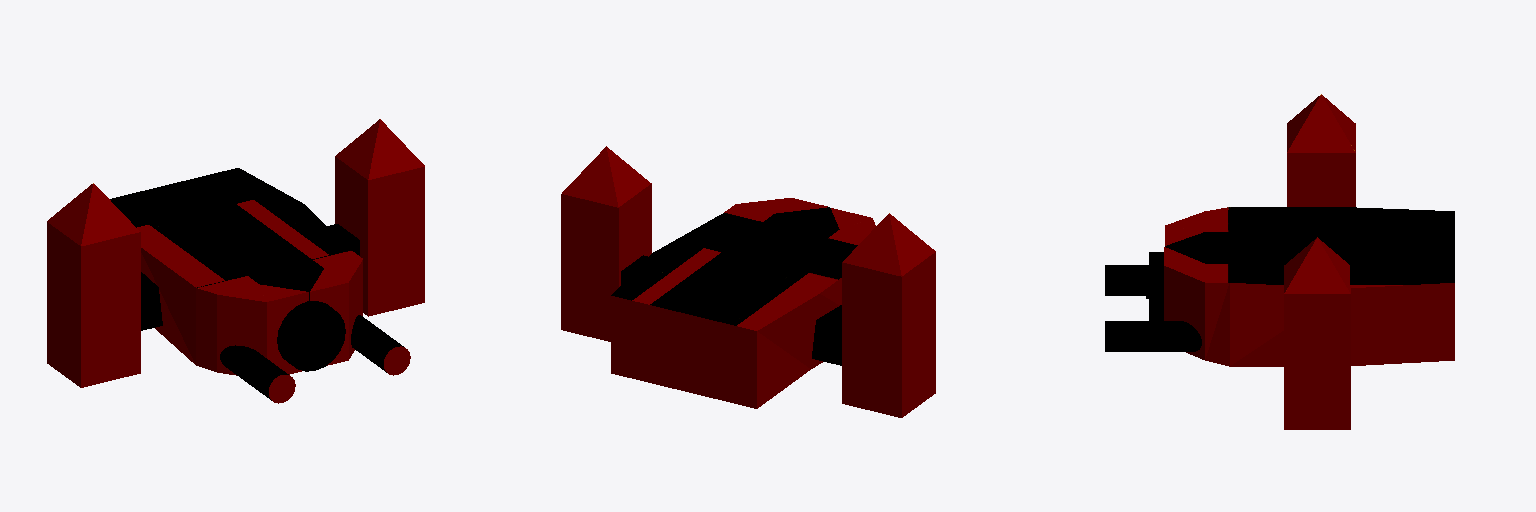
3 renders of one model, left to right at view 1: azimuth 30°, elevation 25°; view 2: azimuth 150°, elevation 25°; view 3: azimuth 270°, elevation 25°, orthographic.
Parts seen in each view (by area): view 1: EnemyFighter:pCube1 EnemyFighter:polySurface13 EnemyFighter:poly, EnemyFighter:polySurface2 EnemyFighter:polySurface13 EnemyFighte, EnemyFighter:polySurface3 EnemyFighter:polySurface13 EnemyFighte, EnemyFighter:enemyfighter_group3 EnemyFighter:pasted__pCylinder1, EnemyFighter:enemyfighter_pCylinder2 EnemyFighter:polySurface13 , EnemyFighter:enemyfighter_group4 EnemyFighter:enemyfighter_paste; view 2: EnemyFighter:pCube1 EnemyFighter:polySurface13 EnemyFighter:poly, EnemyFighter:polySurface2 EnemyFighter:polySurface13 EnemyFighte, EnemyFighter:polySurface3 EnemyFighter:polySurface13 EnemyFighte; view 3: EnemyFighter:pCube1 EnemyFighter:polySurface13 EnemyFighter:poly, EnemyFighter:polySurface3 EnemyFighter:polySurface13 EnemyFighte, EnemyFighter:polySurface2 EnemyFighter:polySurface13 EnemyFighte, EnemyFighter:enemyfighter_group4 EnemyFighter:enemyfighter_paste, EnemyFighter:enemyfighter_pCylinder2 EnemyFighter:polySurface13 , EnemyFighter:enemyfighter_group3 EnemyFighter:pasted__pCylinder1.
Boxes of the visible parts, <box> form: EnemyFighter:pCube1 EnemyFighter:polySurface13 EnemyFighter:poly: <box>110,168,362,375</box>; EnemyFighter:polySurface2 EnemyFighter:polySurface13 EnemyFighte: <box>47,183,162,387</box>; EnemyFighter:polySurface3 EnemyFighter:polySurface13 EnemyFighte: <box>327,119,424,316</box>; EnemyFighter:enemyfighter_group3 EnemyFighter:pasted__pCylinder1: <box>277,301,345,371</box>; EnemyFighter:enemyfighter_pCylinder2 EnemyFighter:polySurface13 : <box>220,345,295,403</box>; EnemyFighter:enemyfighter_group4 EnemyFighter:enemyfighter_paste: <box>351,315,410,375</box>; EnemyFighter:pCube1 EnemyFighter:polySurface13 EnemyFighter:poly: <box>611,198,875,408</box>; EnemyFighter:polySurface2 EnemyFighter:polySurface13 EnemyFighte: <box>812,213,935,417</box>; EnemyFighter:polySurface3 EnemyFighter:polySurface13 EnemyFighte: <box>561,146,651,341</box>; EnemyFighter:pCube1 EnemyFighter:polySurface13 EnemyFighter:poly: <box>1164,207,1454,366</box>; EnemyFighter:polySurface3 EnemyFighter:polySurface13 EnemyFighte: <box>1284,237,1350,429</box>; EnemyFighter:polySurface2 EnemyFighter:polySurface13 EnemyFighte: <box>1287,94,1355,206</box>; EnemyFighter:enemyfighter_group4 EnemyFighter:enemyfighter_paste: <box>1105,321,1201,351</box>; EnemyFighter:enemyfighter_pCylinder2 EnemyFighter:polySurface13 : <box>1105,265,1148,295</box>; EnemyFighter:enemyfighter_group3 EnemyFighter:pasted__pCylinder1: <box>1149,252,1163,320</box>.
Bounding box in the file's own units: 5.5 × 2.84 × 4.85.
Materials: 1 (1 with a texture image).